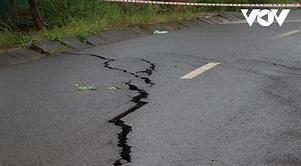ROAD_CRACK: (56, 50, 156, 165)
